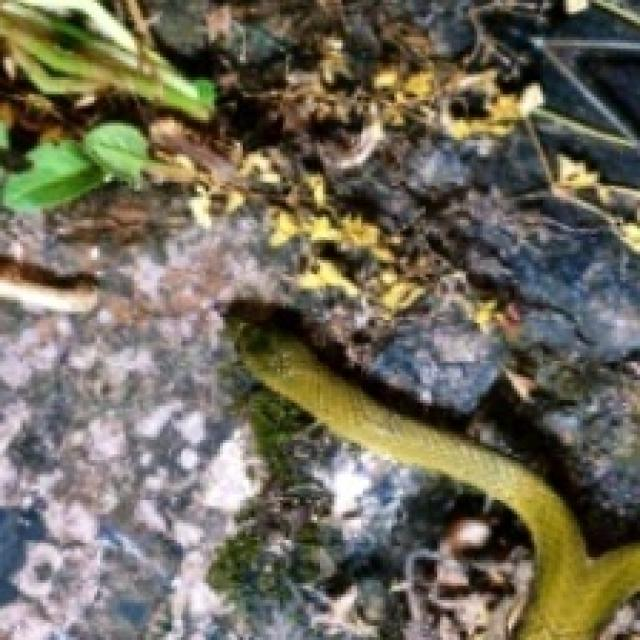gunthers philippine shrub snake: (229, 317, 637, 637)
